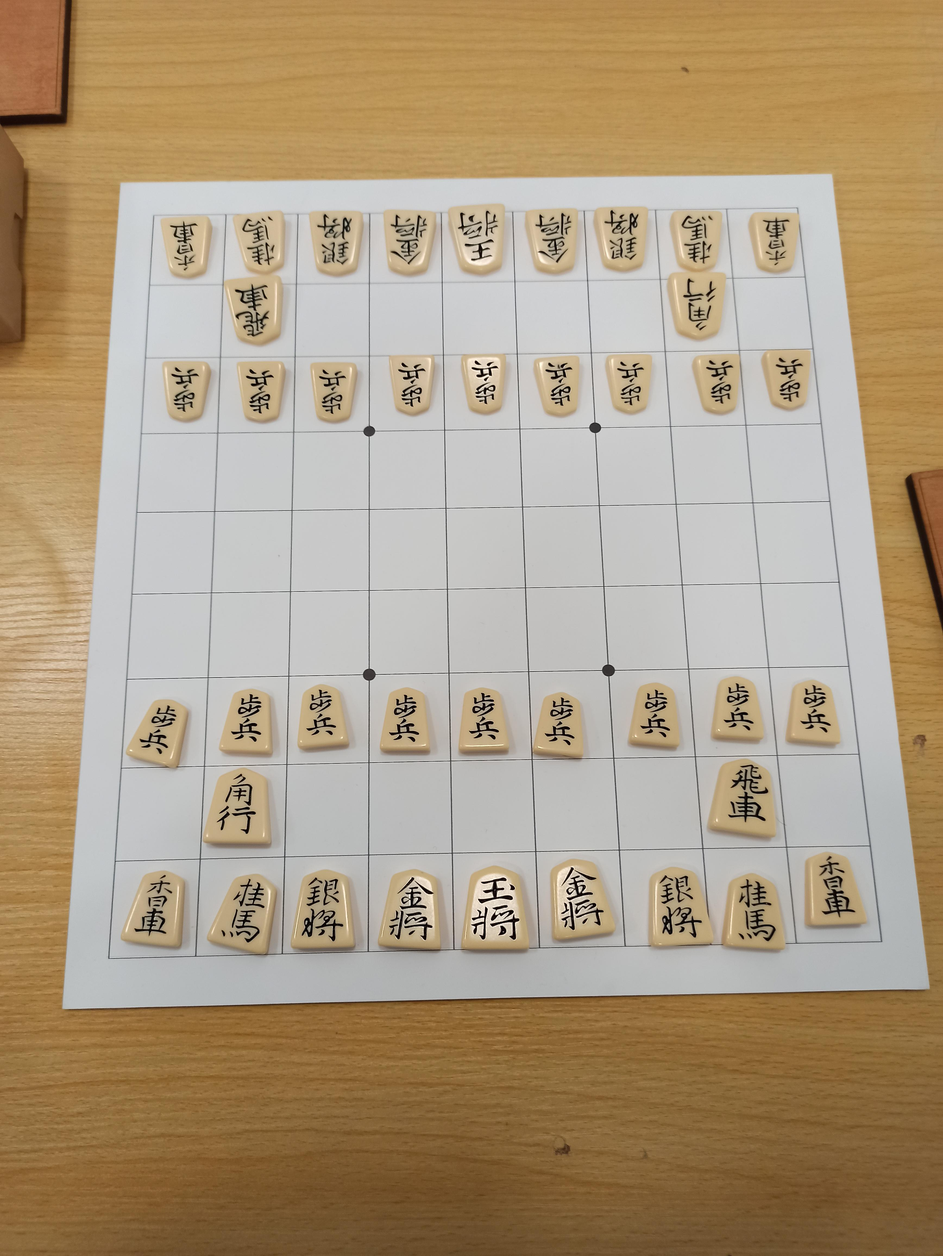board: (108, 207, 882, 960)
